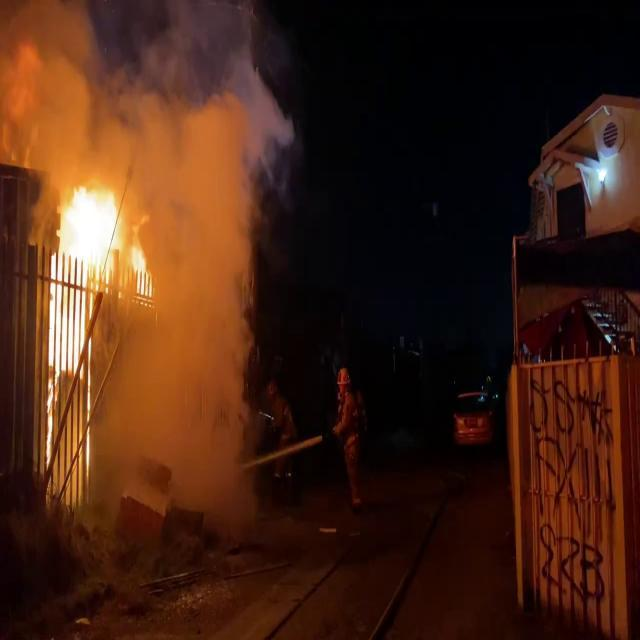Fire: (44, 167, 152, 494)
Smoke: (105, 2, 281, 524)
